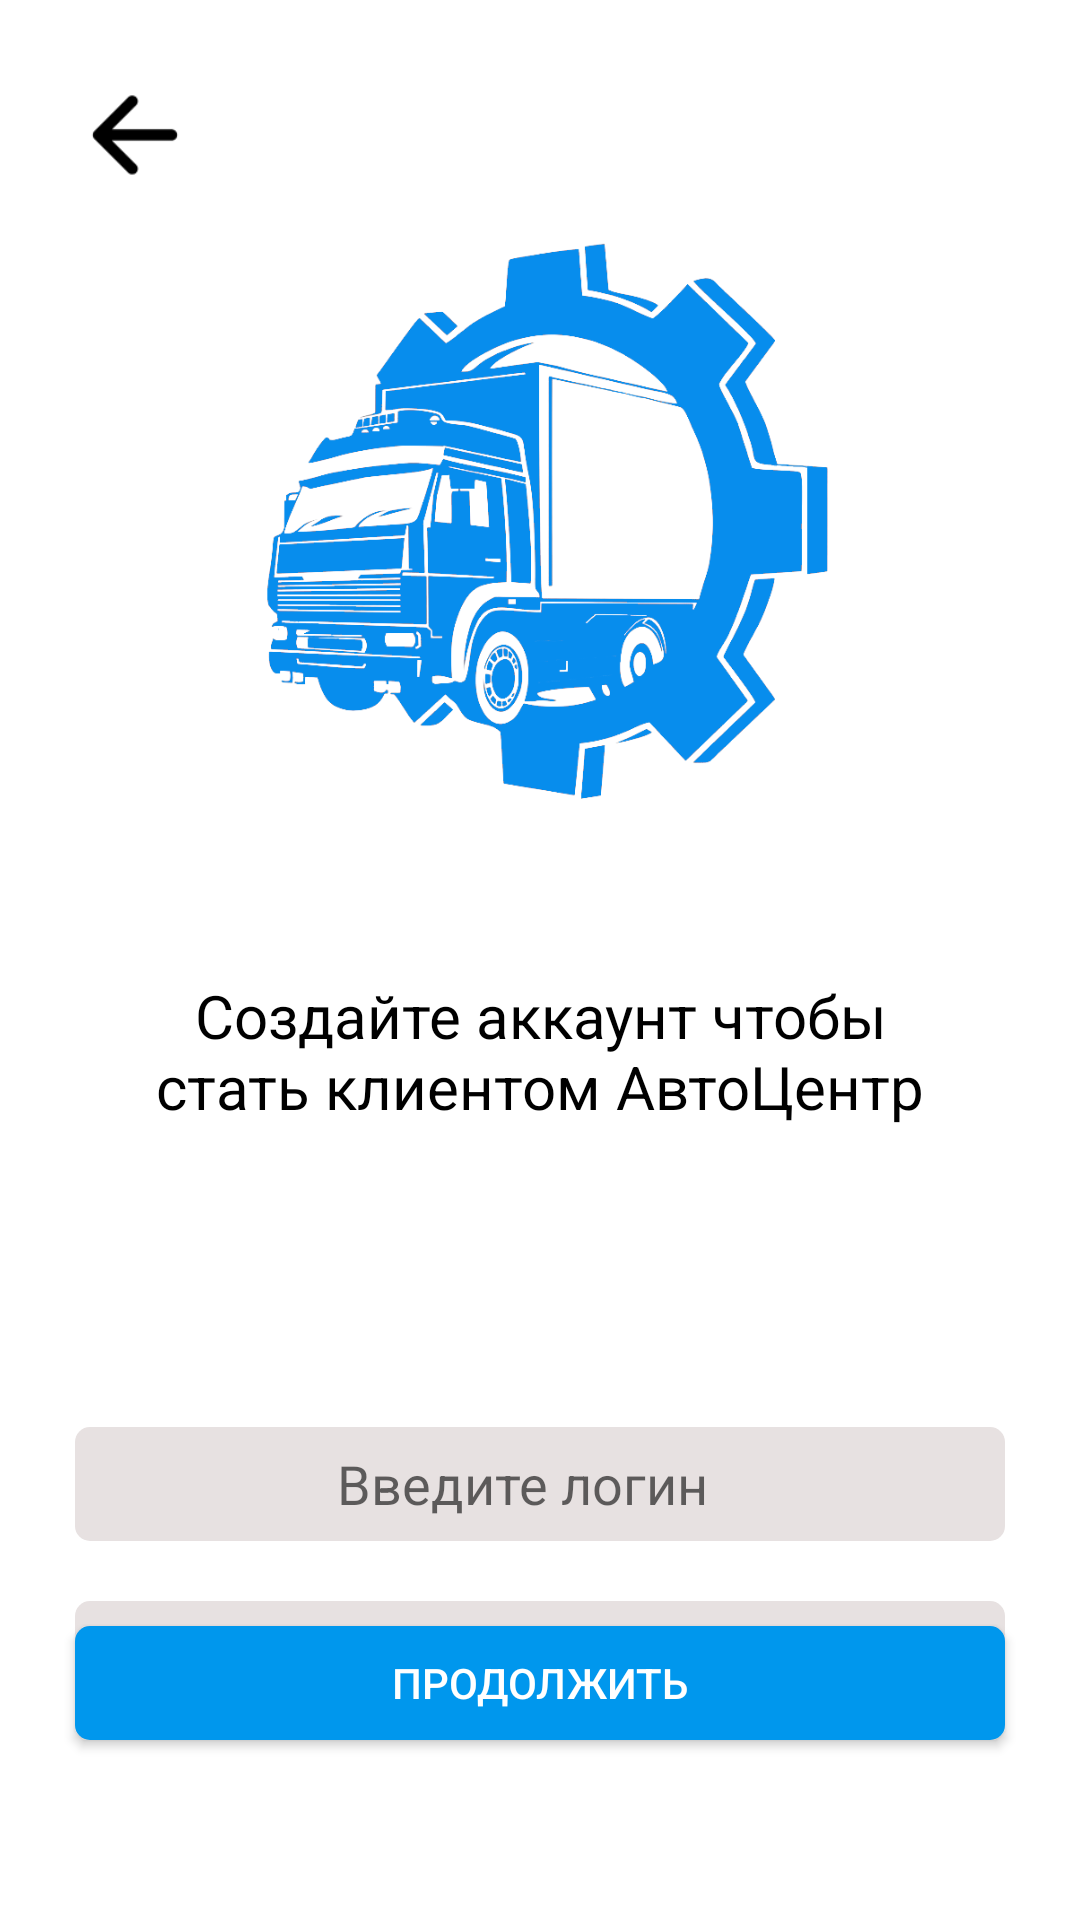

Named icons in this screenshot (1080×1920) and their bounding boxes, bbox=[x1, y1, x2, y2]:
back: bbox=[92, 95, 178, 175]
